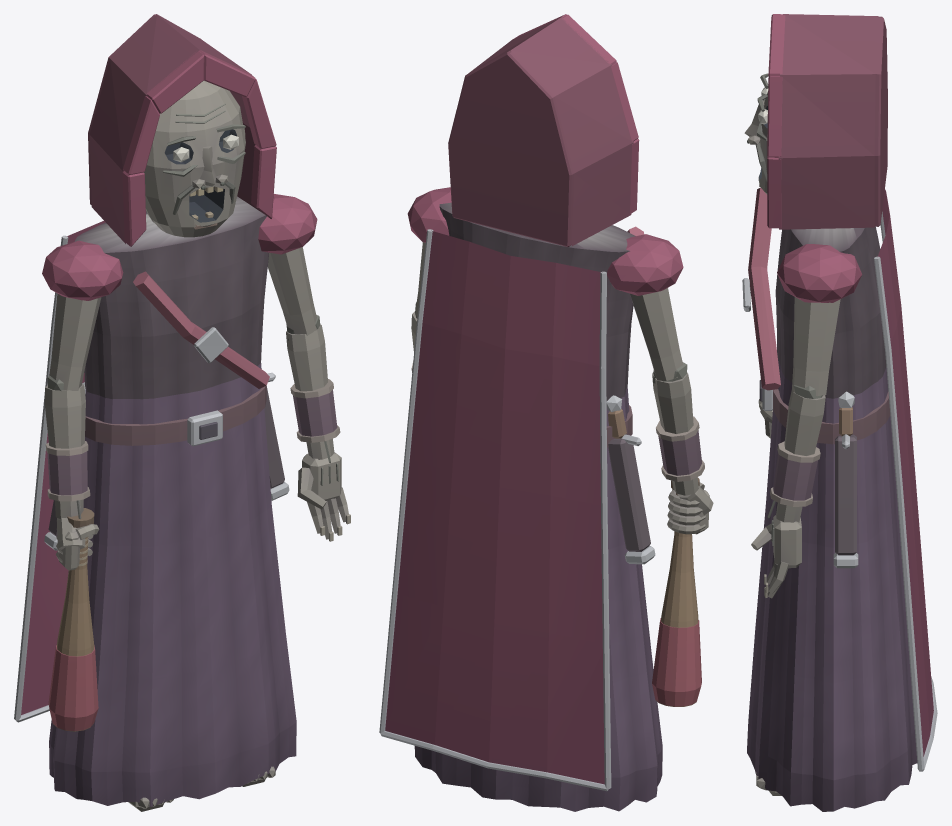
File: GrannyAssassin.glb
3 views of the same model, side by side, from view 1: azimuth 30°, elevation 25°; view 2: azimuth 150°, elevation 25°; view 3: azimuth 270°, elevation 25° (orthographic).
Visible parts, largest first — view 1: Body, Head, ArmR, ArmL; view 2: Body, Head, ArmR, ArmL; view 3: Body, Head, ArmL.
Part boxes in pixels (box(x1,y1,x2,y2)): Body: box(14, 196, 296, 806); Head: box(88, 14, 276, 246); ArmR: box(42, 240, 123, 731); ArmL: box(258, 194, 350, 541); Body: box(379, 202, 662, 811); Head: box(448, 14, 639, 247); ArmR: box(607, 234, 713, 706); ArmL: box(407, 187, 451, 372); Body: box(742, 187, 937, 811); Head: box(744, 14, 887, 229); ArmL: box(751, 244, 862, 598).
Size of the model in its own units: 2.62 by 6.41 by 1.51.
